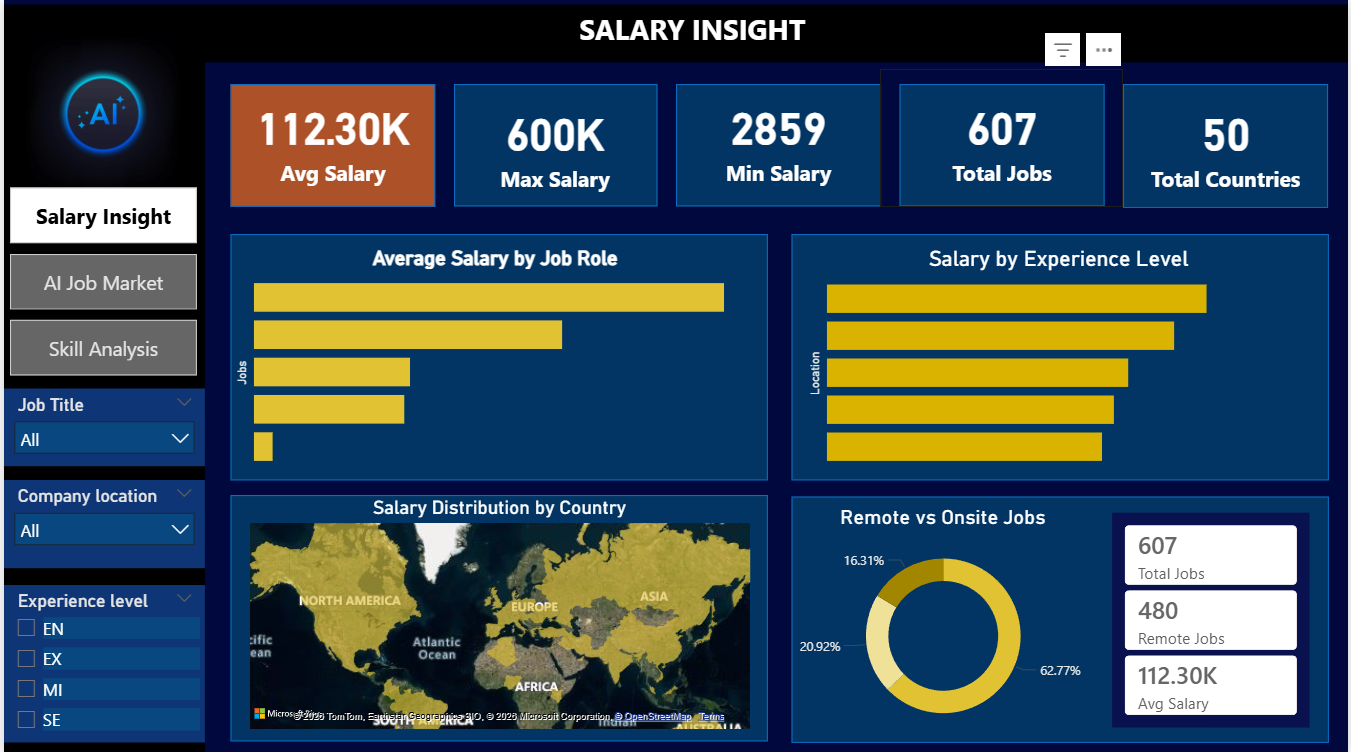

The dashboard page shown, as its layout file describes it:
{"tool":"powerbi","page":{"name":"Salary Insight","canvas":[1280,720],"ordinal":0},"visuals":[{"type":"shape","box":[0,4.1,1279.8,55.1],"z":0},{"type":"shape","box":[0,55.1,191.5,665.4],"z":1000},{"type":"textbox","box":[542.8,4.1,300.3,51],"z":2000},{"type":"shape","box":[215,79.9,195,117],"z":3000},{"type":"card","fields":{"Values":["clean_salary.Avg Salary"]},"box":[196.8,65.1,231.7,131.7],"z":4000},{"type":"shape","box":[215,222.6,511.8,234.7],"z":5000},{"type":"shape","box":[749.5,222.6,511.8,234.7],"z":6000},{"type":"clusteredBarChart","title":"Average Salary by Job Role","fields":{"Category":["clean_salary.job_title"],"Y":["Avg(clean_salary.salary_in_usd)"]},"box":[215,234.7,504.2,210.5],"z":7000},{"type":"barChart","title":"Salary by Experience Level","fields":{"Category":["clean_salary.company_location"],"Y":["Avg(clean_salary.salary_in_usd)"]},"box":[761.6,234.7,486.1,210.5],"z":8000},{"type":"shape","box":[215,470.9,511.8,234.7],"z":9000},{"type":"shape","box":[749.5,472.4,511.8,234.7],"z":10000},{"type":"filledMap","title":"Salary Distribution by Country","fields":{"Category":["clean_salary.company_location"],"Y":["Avg(clean_salary.salary_in_usd)"]},"box":[228.6,472.4,487,226],"z":11000},{"type":"donutChart","title":"Remote vs Onsite Jobs","fields":{"Y":["CountNonNull(clean_salary.job_title)"],"Category":["clean_salary.remote_ratio"]},"box":[719.2,481.5,351.3,225.6],"z":12000},{"type":"slicer","fields":{"Values":["clean_salary.experience_level"]},"box":[0,557.1,191.4,150],"z":13000},{"type":"slicer","fields":{"Values":["clean_salary.job_title"]},"box":[0,370,191.4,74.3],"z":14000},{"type":"slicer","fields":{"Values":["clean_salary.company_location"]},"box":[0,457.1,191.4,84.3],"z":15000},{"type":"shape","box":[427.9,80.1,193.8,116.6],"z":16000},{"type":"shape","box":[639.6,80.1,195.3,116.6],"z":17000},{"type":"shape","box":[852.8,80.1,195.3,116.6],"z":18000},{"type":"shape","box":[1066,79.4,195.3,118.1],"z":19000},{"type":"card","fields":{"Values":["clean_salary.Max Salary"]},"box":[408.8,71.2,231.7,131.7],"z":20000},{"type":"card","fields":{"Values":["Min(clean_salary.salary_in_usd)"]},"box":[620.8,65.1,231.7,131.7],"z":21000},{"type":"card","fields":{"Values":["clean_salary.Total Jobs"]},"box":[834.3,65.1,231.7,131.7],"z":22000},{"type":"card","fields":{"Values":["clean_salary.Total Countries"]},"box":[1047.8,71.2,231.7,131.7],"z":23000},{"type":"image","box":[10,31.4,168.6,154.3],"z":24000},{"type":"cardVisual","fields":{"Data":["clean_salary.Total Jobs","clean_salary.Remote Jobs","clean_salary.Avg Salary"]},"box":[1049.3,483,198.4,216.5],"z":25000},{"type":"pageNavigator","box":[5.7,178.6,178.6,181.4],"z":25001}]}

Visuals, with their boxes on the page's 1280x720 design canvas (x1, y1, x2, y2). These are canvas units, not pixel positions in the 1351x752 screenshot, which may show the page scaled, cropped or inside an application window:
shape: Rect(0, 4, 1280, 59)
shape: Rect(0, 55, 192, 720)
textbox: Rect(543, 4, 843, 55)
shape: Rect(215, 80, 410, 197)
card - clean_salary.Avg Salary: Rect(197, 65, 428, 197)
shape: Rect(215, 223, 727, 457)
shape: Rect(750, 223, 1261, 457)
"Average Salary by Job Role" clusteredBarChart: Rect(215, 235, 719, 445)
"Salary by Experience Level" barChart: Rect(762, 235, 1248, 445)
shape: Rect(215, 471, 727, 706)
shape: Rect(750, 472, 1261, 707)
"Salary Distribution by Country" filledMap: Rect(229, 472, 716, 698)
"Remote vs Onsite Jobs" donutChart: Rect(719, 482, 1070, 707)
slicer - clean_salary.experience_level: Rect(0, 557, 191, 707)
slicer - clean_salary.job_title: Rect(0, 370, 191, 444)
slicer - clean_salary.company_location: Rect(0, 457, 191, 541)
shape: Rect(428, 80, 622, 197)
shape: Rect(640, 80, 835, 197)
shape: Rect(853, 80, 1048, 197)
shape: Rect(1066, 79, 1261, 198)
card - clean_salary.Max Salary: Rect(409, 71, 640, 203)
card - Min(clean_salary.salary_in_usd): Rect(621, 65, 852, 197)
card - clean_salary.Total Jobs: Rect(834, 65, 1066, 197)
card - clean_salary.Total Countries: Rect(1048, 71, 1280, 203)
image: Rect(10, 31, 179, 186)
cardVisual - clean_salary.Total Jobs x clean_salary.Remote Jobs: Rect(1049, 483, 1248, 700)
pageNavigator: Rect(6, 179, 184, 360)
